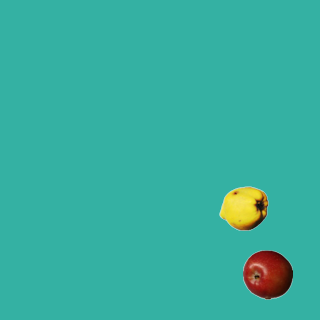Apple Braeburn: (242, 249, 292, 299)
Quince: (218, 183, 268, 233)
